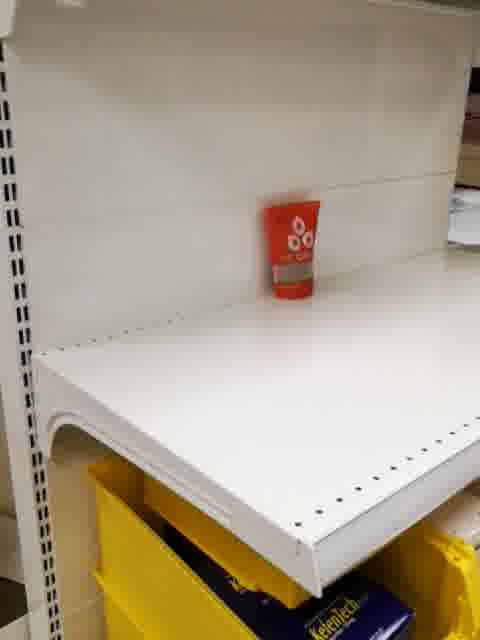whitechia: (258, 197, 323, 304)
